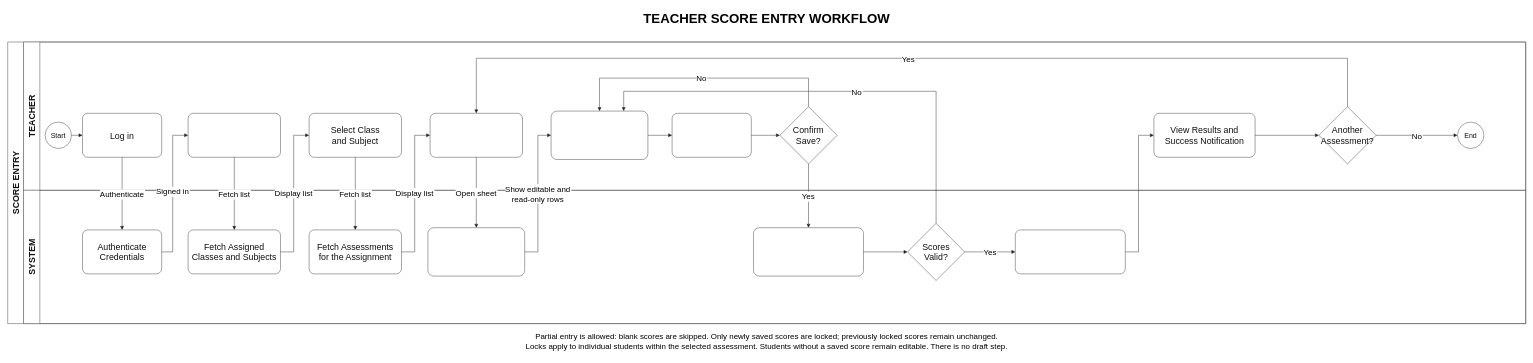
Some shapes in this 1533 by 363 pixel diagram are drawn without their labels. The centre of each missing label's shape, as x and y in pixels:
"Click Save" belongs at pixel 711 135.
"Enter Scores and Comments for Unlocked Students" belongs at pixel 599 135.
"Load Grade Sheet and Per-Student Lock Status" belongs at pixel 476 251.
"Open Assessment Management" belongs at pixel 234 135.
"Save New Scores and Lock Only Saved Rows" belongs at pixel 1070 251.
"Select an Assessment" belongs at pixel 476 135.
"Validate Entered Scores and Recheck Row Locks (Blank Scores Allowed)" belongs at pixel 808 251.
